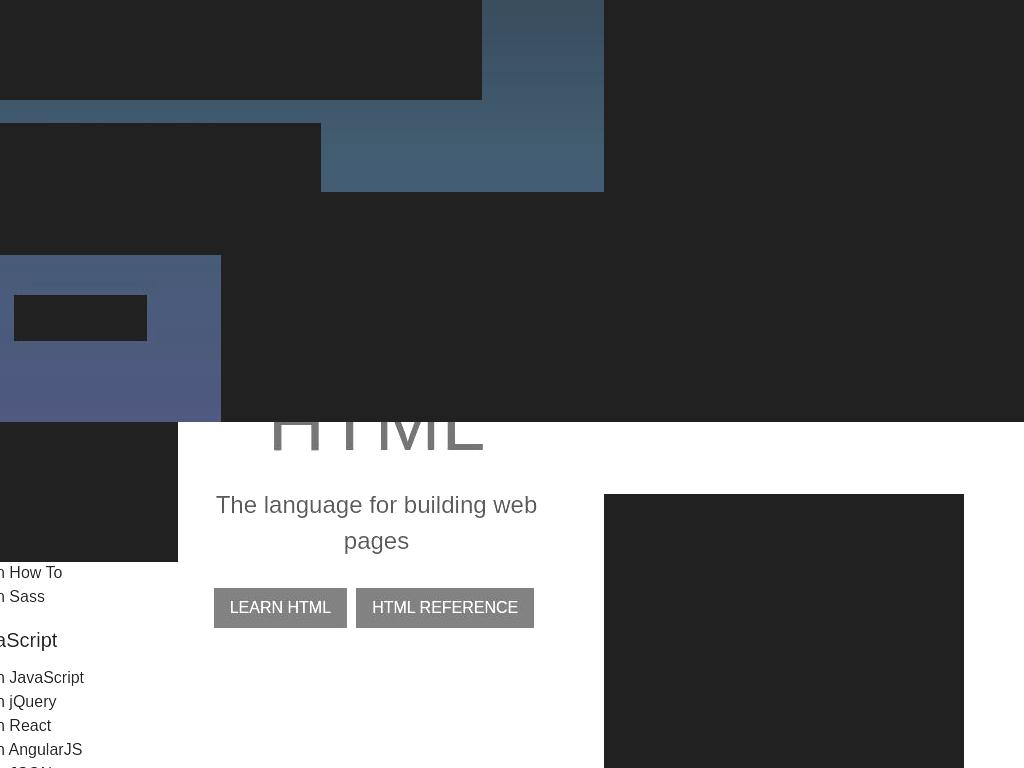button: (356, 587, 535, 628), (728, 66, 909, 106), (14, 295, 147, 341), (213, 587, 348, 628), (916, 62, 1017, 110), (0, 441, 178, 466), (0, 465, 178, 490), (0, 489, 178, 514), (0, 513, 178, 538), (0, 537, 178, 562), (0, 561, 178, 586), (0, 585, 178, 610), (0, 665, 178, 690), (0, 689, 178, 714), (0, 713, 178, 738), (0, 737, 178, 762), (0, 422, 178, 442), (941, 0, 1016, 46), (0, 761, 178, 768)
field: (728, 0, 942, 44)
heading: (604, 494, 964, 768), (0, 0, 482, 100), (201, 422, 552, 483), (0, 625, 162, 656)
image: (604, 0, 1024, 422), (221, 192, 604, 422)
label: (728, 0, 1016, 44)
text: (0, 123, 321, 255), (201, 486, 552, 559)
